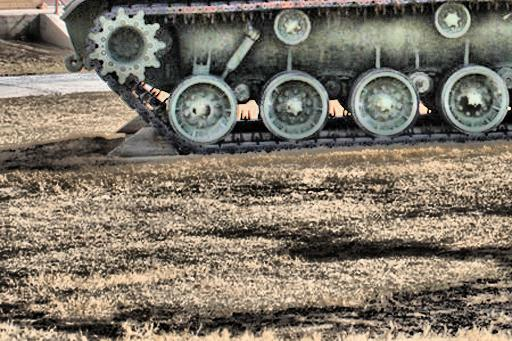tanks: (65, 1, 512, 153)
